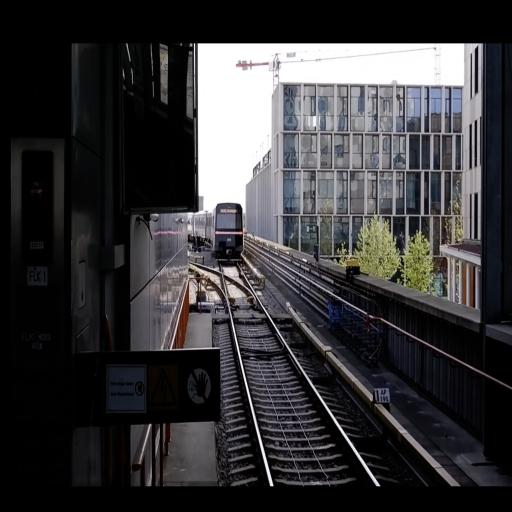X-Wagen: (192, 202, 245, 265)
